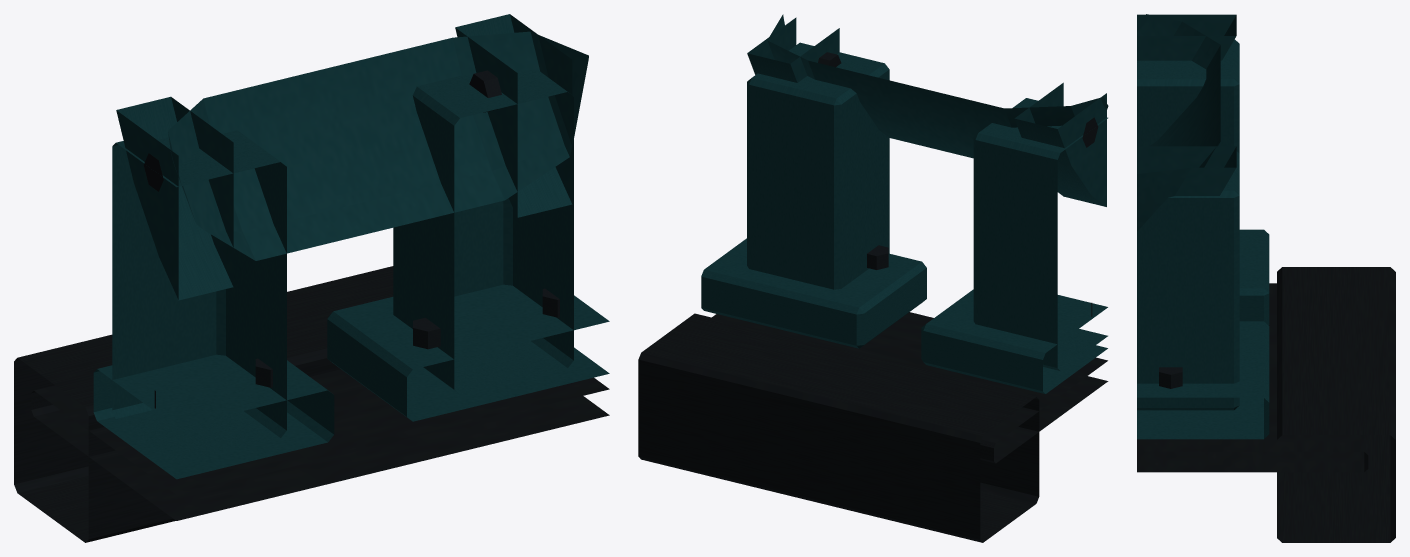
The model's file is cell_1.obj.
3 renders of one model, left to right at view 1: azimuth 30°, elevation 25°; view 2: azimuth 150°, elevation 25°; view 3: azimuth 270°, elevation 25°, orthographic. The views are drawn at different scales.
Parts seen in each view (by area): view 1: cell_1; view 2: cell_1; view 3: cell_1.
Boxes of the visible parts, x1=… form: cell_1: x1=14, y1=14, x2=609, y2=542; cell_1: x1=638, y1=14, x2=1108, y2=542; cell_1: x1=1137, y1=14, x2=1395, y2=542.
Size of the model in its own units: 1 by 1 by 0.65.
